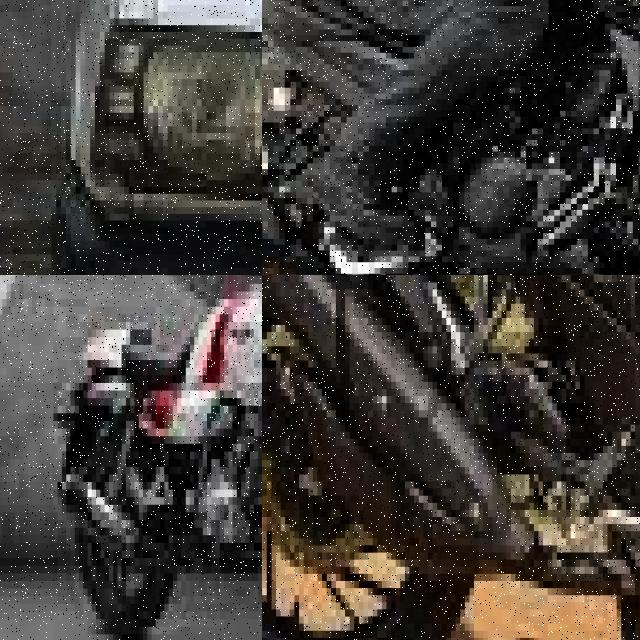bike: (262, 275, 640, 640), (262, 0, 640, 275), (49, 275, 262, 640)
car: (32, 0, 262, 275)
